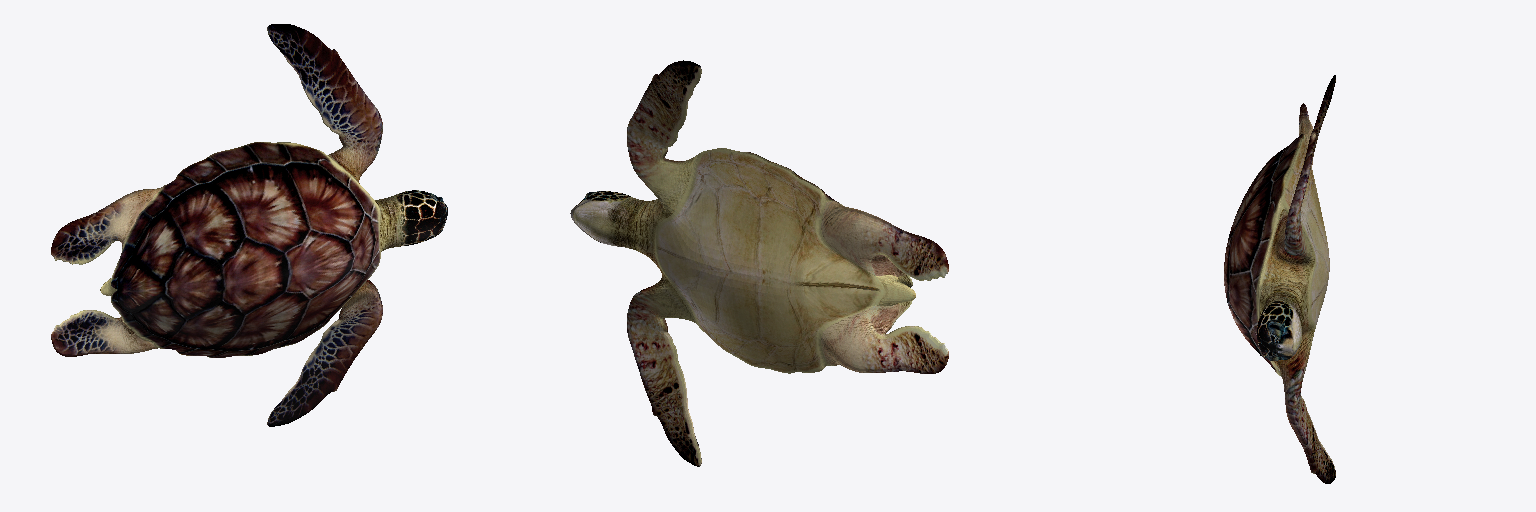
3 renders of one model, left to right at view 1: azimuth 30°, elevation 25°; view 2: azimuth 150°, elevation 25°; view 3: azimuth 270°, elevation 25°, orthographic.
Parts seen in each view (by area): view 1: 10042_Sea_Turtle_V1; view 2: 10042_Sea_Turtle_V1; view 3: 10042_Sea_Turtle_V1.
Part boxes in pixels (left/top/right/bottom): 10042_Sea_Turtle_V1: left=51, top=24, right=447, bottom=426; 10042_Sea_Turtle_V1: left=570, top=60, right=948, bottom=466; 10042_Sea_Turtle_V1: left=1224, top=75, right=1335, bottom=483.
Bounding box in the file's own units: 102 × 102 × 25.77.
1 materials, 1 textured.